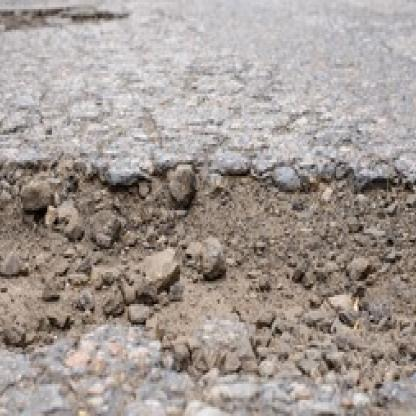pothole: (0, 149, 416, 396), (0, 7, 132, 32)
